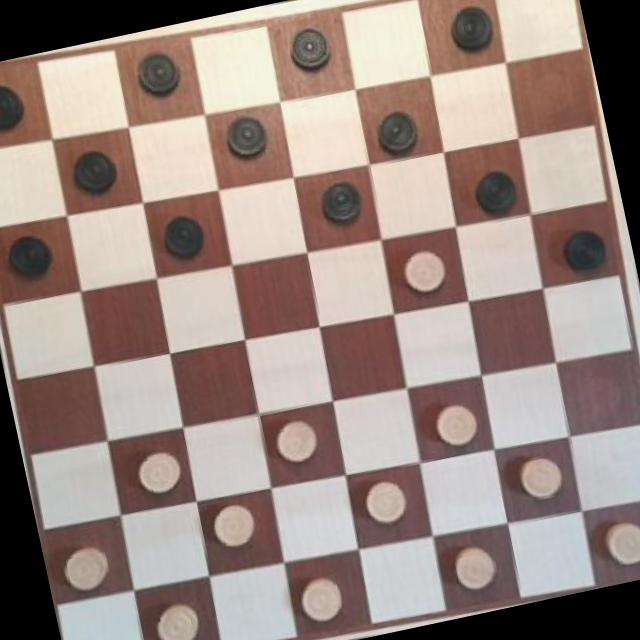BOARD: (0, 0, 640, 640)
black: (462, 159, 526, 224), (282, 18, 341, 78), (442, 0, 503, 58), (63, 140, 121, 199), (128, 44, 186, 102), (219, 111, 278, 168), (156, 206, 212, 264), (557, 219, 615, 275), (367, 102, 424, 156), (1, 229, 58, 280), (316, 178, 362, 223), (0, 74, 30, 134), (496, 46, 504, 48)
white: (424, 392, 486, 454), (444, 535, 504, 598), (131, 443, 189, 500), (397, 242, 452, 300), (295, 570, 348, 630), (268, 412, 324, 467), (512, 449, 568, 504), (208, 499, 262, 552), (361, 474, 412, 528), (60, 542, 110, 594), (596, 511, 640, 570), (148, 596, 205, 640)
